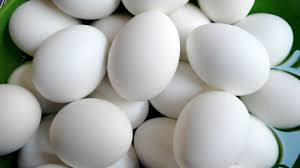eggs: (47, 90, 131, 163), (184, 20, 266, 94), (110, 12, 166, 106), (36, 38, 113, 102), (10, 3, 88, 58), (181, 95, 240, 167), (240, 8, 299, 74), (0, 74, 44, 146), (251, 68, 300, 121), (139, 118, 184, 168)
